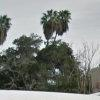Tree: (26, 9, 77, 71)
